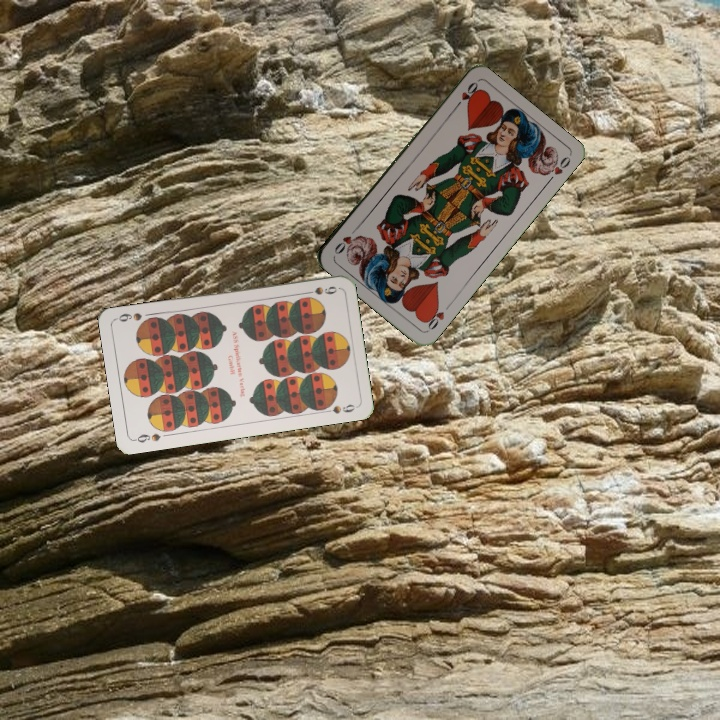HO: (420, 299, 454, 333), (450, 77, 481, 112)
S9: (299, 282, 339, 297), (131, 429, 163, 445)
